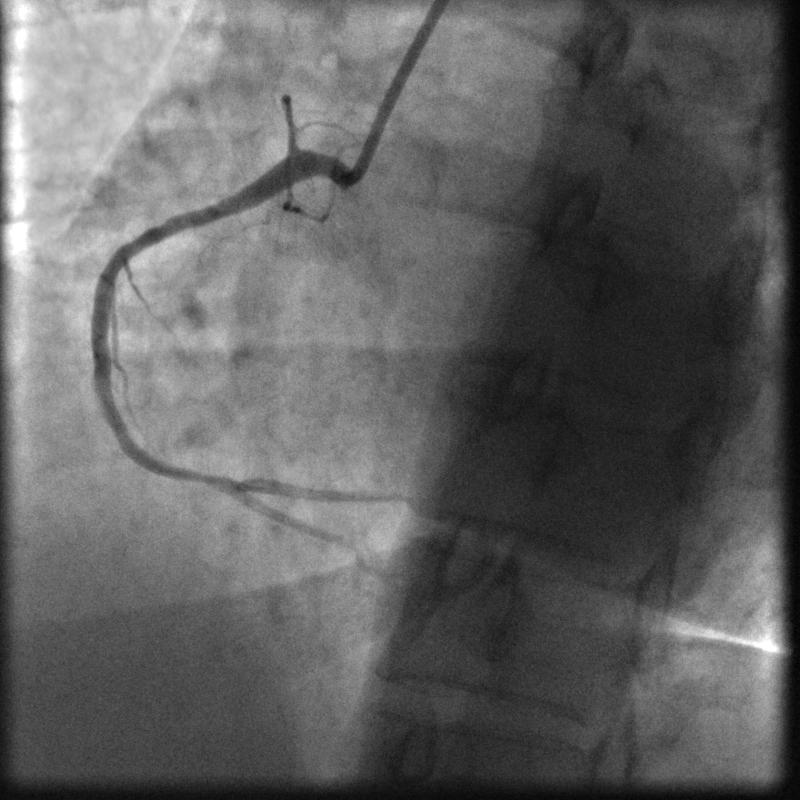Stenosis: (177, 458, 232, 501)
